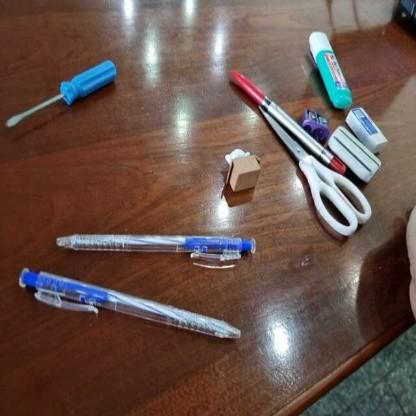not trash: (256, 107, 372, 237), (21, 269, 239, 337), (231, 69, 345, 172), (7, 60, 116, 154), (57, 235, 256, 268), (310, 31, 352, 107), (330, 127, 380, 182), (346, 106, 388, 154), (224, 148, 261, 193), (302, 110, 329, 145)
